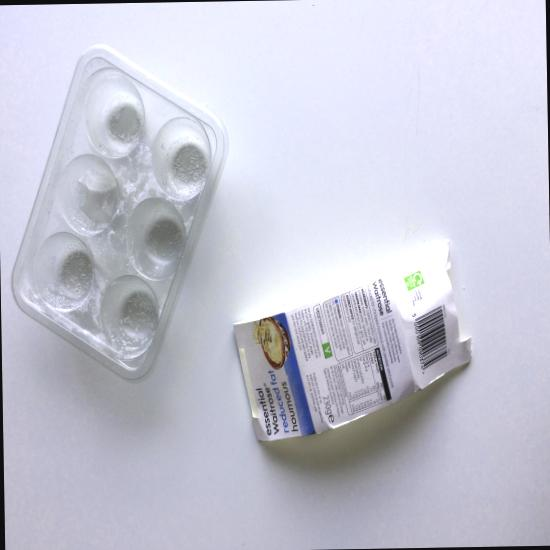Disposable food container: (10, 43, 229, 383)
Other carton: (233, 239, 471, 441)
